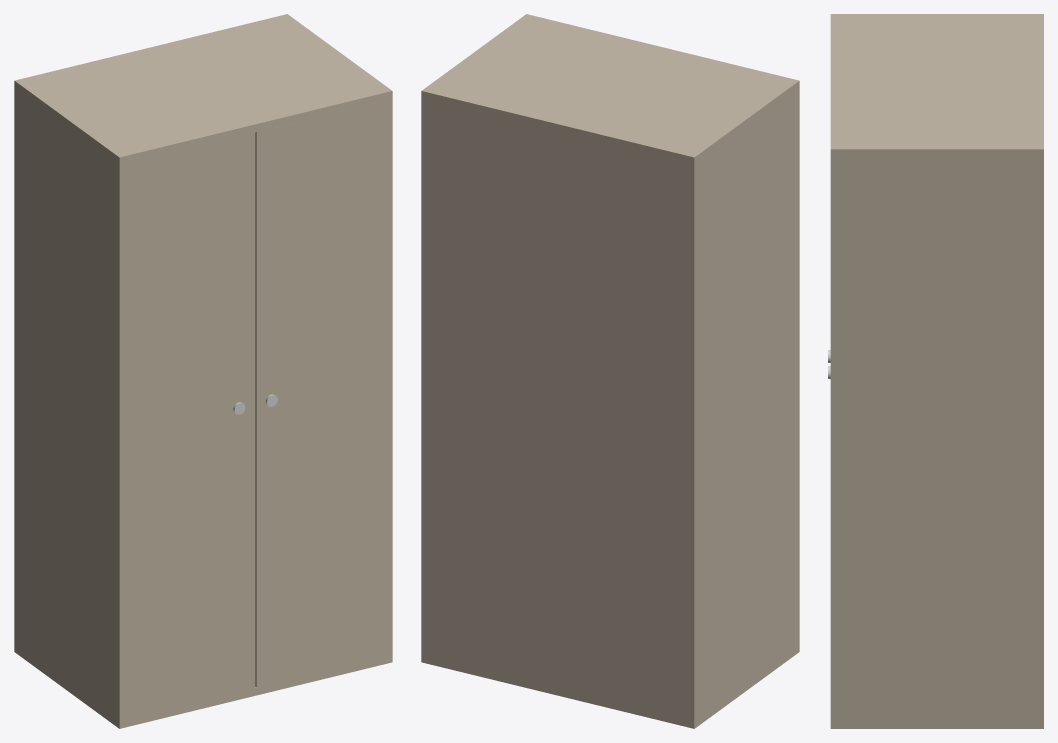
File: cabinet.glb
3 renders of one model, left to right at view 1: azimuth 30°, elevation 25°; view 2: azimuth 150°, elevation 25°; view 3: azimuth 270°, elevation 25°, orthographic.
Parts seen in each view (by area): view 1: Mesh_Mesh_head_geo.001_lambert2SG.001; view 2: Mesh_Mesh_head_geo.001_lambert2SG.001; view 3: Mesh_Mesh_head_geo.001_lambert2SG.001.
Boxes of the visible parts, x1,y1,x2,y2 form: Mesh_Mesh_head_geo.001_lambert2SG.001: [14, 14, 392, 728]; Mesh_Mesh_head_geo.001_lambert2SG.001: [421, 14, 799, 728]; Mesh_Mesh_head_geo.001_lambert2SG.001: [828, 14, 1043, 728].
Size of the model in its own units: 36 by 72 by 24.3.
